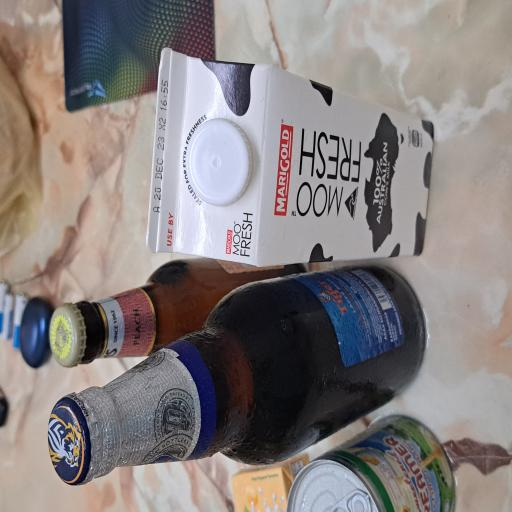can: (0, 381, 73, 512)
drink carton: (183, 190, 348, 512)
glass bottle: (20, 62, 184, 512), (108, 67, 191, 412)
plastic bottle cap: (231, 247, 294, 338)
pop tab: (0, 439, 18, 498)
